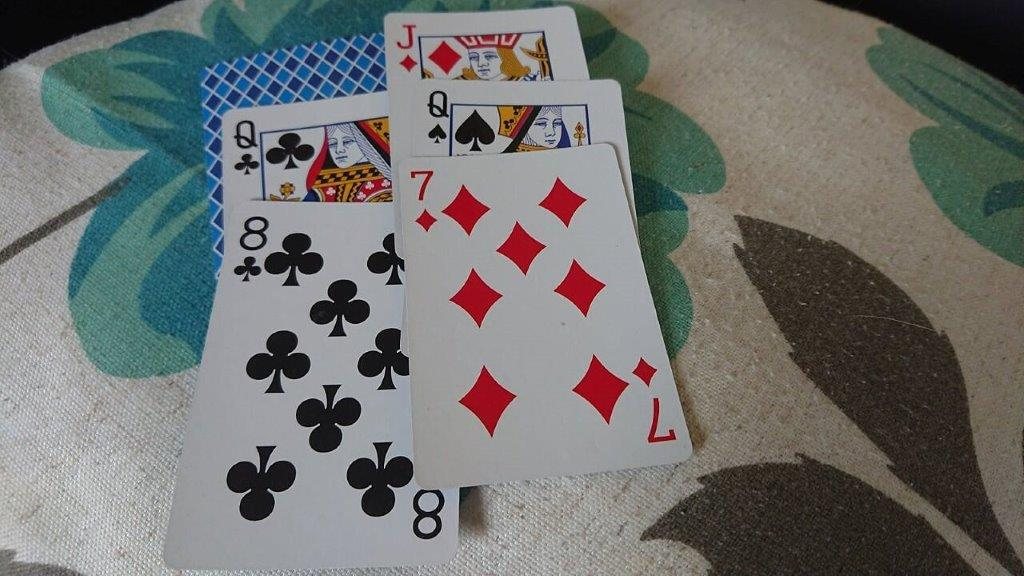7D: (403, 166, 441, 236)
8C: (229, 213, 272, 285)
BACK: (197, 32, 383, 89)
JD: (393, 20, 421, 75)
QC: (231, 116, 262, 178)
QS: (423, 88, 451, 146)
